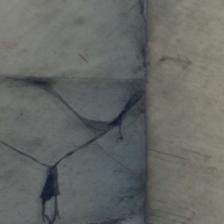Crack: (47, 151, 162, 224), (34, 0, 87, 138), (0, 20, 53, 79)
